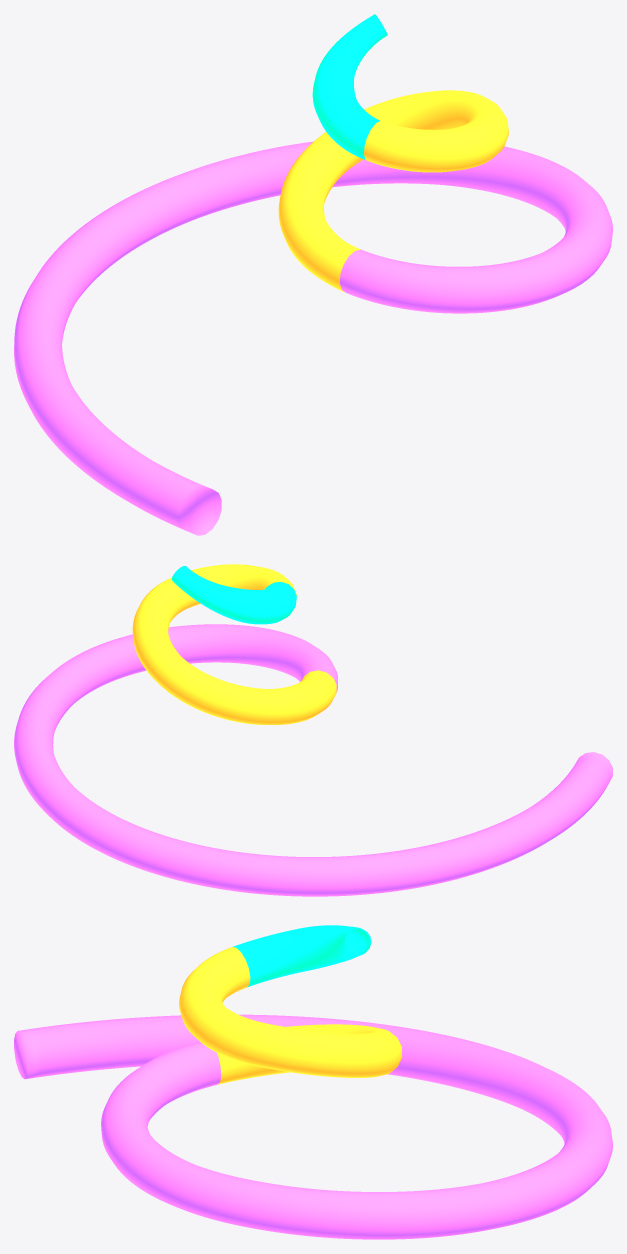
The model's file is zygorhiza_noodle.glb.
3 views of the same model, one above another, from view 1: azimuth 30°, elevation 25°; view 2: azimuth 150°, elevation 25°; view 3: azimuth 270°, elevation 25° (orthographic). The views are drawn at different scales.
Visible parts, largest first — view 1: Zygorhiza | TURN COUNT NOODLE | T00_100, Zygorhiza | TURN COUNT NOODLE | T100_200, Zygorhiza | TURN COUNT NOODLE | T200_PLUS; view 2: Zygorhiza | TURN COUNT NOODLE | T00_100, Zygorhiza | TURN COUNT NOODLE | T100_200, Zygorhiza | TURN COUNT NOODLE | T200_PLUS; view 3: Zygorhiza | TURN COUNT NOODLE | T00_100, Zygorhiza | TURN COUNT NOODLE | T100_200, Zygorhiza | TURN COUNT NOODLE | T200_PLUS.
Boxes of the visible parts, <box> form: Zygorhiza | TURN COUNT NOODLE | T00_100: <box>14,141,612,535</box>; Zygorhiza | TURN COUNT NOODLE | T100_200: <box>278,90,508,292</box>; Zygorhiza | TURN COUNT NOODLE | T200_PLUS: <box>312,14,387,159</box>; Zygorhiza | TURN COUNT NOODLE | T00_100: <box>14,624,612,896</box>; Zygorhiza | TURN COUNT NOODLE | T100_200: <box>132,564,336,724</box>; Zygorhiza | TURN COUNT NOODLE | T200_PLUS: <box>171,566,296,624</box>; Zygorhiza | TURN COUNT NOODLE | T00_100: <box>14,1014,612,1239</box>; Zygorhiza | TURN COUNT NOODLE | T100_200: <box>179,947,402,1084</box>; Zygorhiza | TURN COUNT NOODLE | T200_PLUS: <box>233,925,371,987</box>.
Size of the model in its own units: 11.25 by 5.93 by 10.26.
